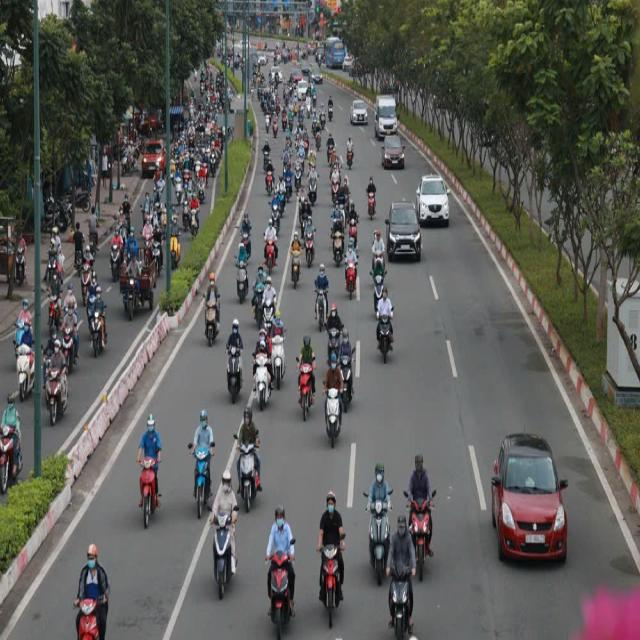Truck: (375, 96, 398, 138)
car: (489, 434, 563, 569), (418, 166, 452, 240), (390, 204, 420, 272), (382, 132, 406, 171), (144, 140, 166, 175), (351, 101, 366, 127), (310, 66, 323, 85), (298, 80, 308, 100), (293, 64, 302, 84), (270, 66, 280, 84), (256, 50, 266, 66), (302, 58, 310, 77)
motobyte: (317, 495, 346, 616), (67, 548, 105, 640), (405, 454, 435, 570), (266, 514, 294, 635), (210, 470, 236, 599), (232, 403, 256, 517), (394, 521, 414, 635), (189, 407, 208, 518), (0, 398, 22, 490), (139, 413, 156, 530), (370, 466, 388, 566), (45, 347, 67, 415), (298, 336, 315, 418), (269, 315, 285, 392), (325, 360, 340, 442), (18, 328, 34, 404), (255, 330, 270, 410), (14, 299, 32, 363), (228, 319, 242, 399), (61, 305, 77, 371), (378, 290, 393, 360), (47, 228, 62, 291), (205, 274, 218, 346), (342, 326, 354, 404), (326, 307, 342, 363), (90, 292, 104, 356), (86, 276, 100, 338), (254, 269, 268, 328), (48, 272, 61, 334), (71, 221, 85, 275), (264, 223, 278, 276), (168, 214, 182, 267), (316, 266, 328, 325), (372, 262, 386, 312), (82, 249, 94, 306), (288, 234, 300, 290), (265, 280, 277, 333), (344, 246, 356, 299), (236, 244, 246, 300), (239, 216, 250, 264), (331, 220, 342, 267), (304, 218, 315, 265), (372, 228, 384, 270), (88, 207, 98, 257), (190, 198, 201, 238), (337, 189, 347, 231), (143, 221, 153, 263), (122, 143, 134, 177), (118, 208, 128, 248), (154, 226, 162, 272), (112, 228, 118, 288), (182, 187, 190, 232), (277, 177, 285, 219), (350, 205, 358, 246), (368, 178, 376, 218), (330, 166, 340, 198), (128, 228, 138, 260), (140, 192, 150, 223), (329, 152, 340, 180), (266, 163, 275, 196), (270, 194, 278, 230), (294, 159, 302, 195), (332, 202, 341, 232), (309, 167, 317, 200), (156, 170, 165, 199), (327, 133, 335, 165), (262, 140, 270, 172), (197, 172, 205, 203), (182, 158, 190, 189), (308, 147, 316, 177), (175, 169, 182, 203), (286, 166, 292, 204), (162, 205, 169, 237), (347, 135, 353, 169), (154, 188, 161, 216), (283, 151, 290, 177), (195, 153, 202, 178), (316, 124, 322, 152), (204, 153, 209, 184), (265, 110, 271, 135), (190, 98, 196, 123), (215, 133, 220, 162), (320, 102, 325, 130), (173, 142, 178, 170), (188, 126, 194, 149), (299, 145, 304, 171), (211, 146, 215, 178), (206, 121, 210, 150), (312, 86, 317, 109), (198, 124, 203, 146), (274, 111, 278, 138), (212, 103, 218, 121), (276, 95, 281, 116), (314, 110, 318, 136), (306, 95, 310, 121), (298, 108, 303, 128), (282, 108, 286, 132), (294, 93, 298, 117), (328, 98, 332, 121), (289, 108, 293, 131), (180, 137, 184, 160), (262, 95, 266, 115), (199, 105, 204, 121), (264, 97, 268, 114), (289, 79, 293, 96), (208, 106, 212, 123), (284, 91, 288, 106), (266, 83, 270, 98), (275, 70, 278, 89), (214, 90, 219, 101), (271, 96, 274, 111), (205, 81, 209, 92), (210, 71, 214, 81), (272, 84, 275, 97), (258, 82, 260, 100), (206, 92, 209, 104), (195, 70, 198, 82), (262, 81, 264, 97), (210, 94, 214, 102), (201, 81, 203, 94), (211, 81, 213, 93), (217, 76, 219, 88), (202, 69, 204, 80)
non-motorized vehicle: (119, 244, 157, 320)
